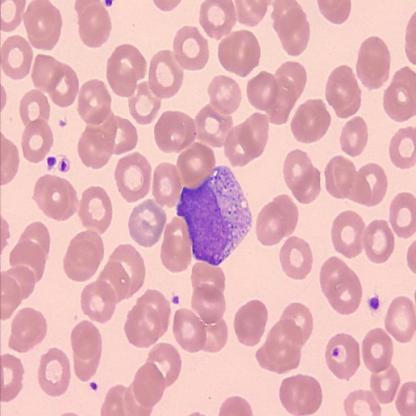Myelocyte: (177, 163, 255, 267)
